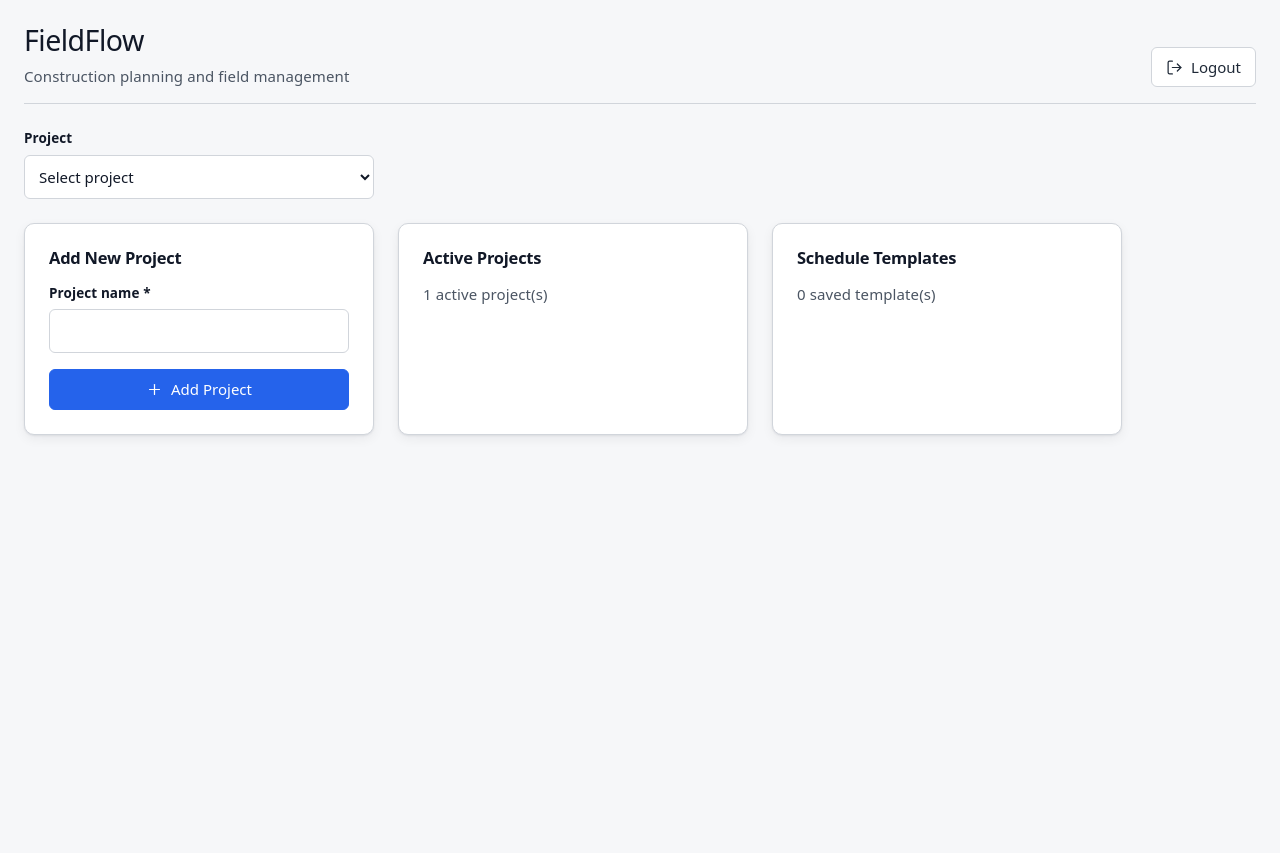
Scenario: App integration (hooks wiring) › loads project documents only from the selected project settings
Step 1. Select "Riverside" in the dropdown labelled "Project" → coordinates (199, 176), box [24,154,374,198]
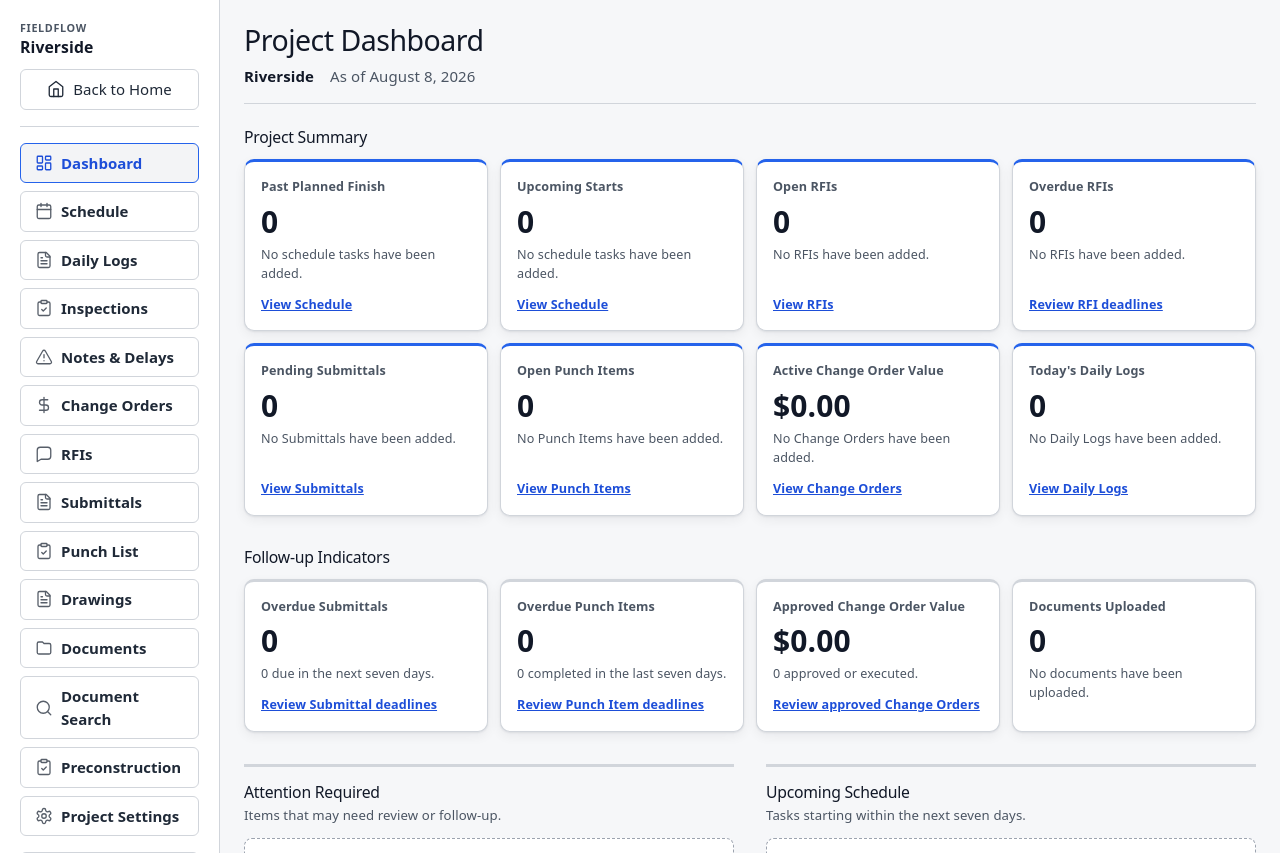
Expected: the heading "Project Dashboard" is shown, [244,24,484,57]
Step 2. Click the button "Project Settings" → coordinates (110, 816), box [20,796,199,836]
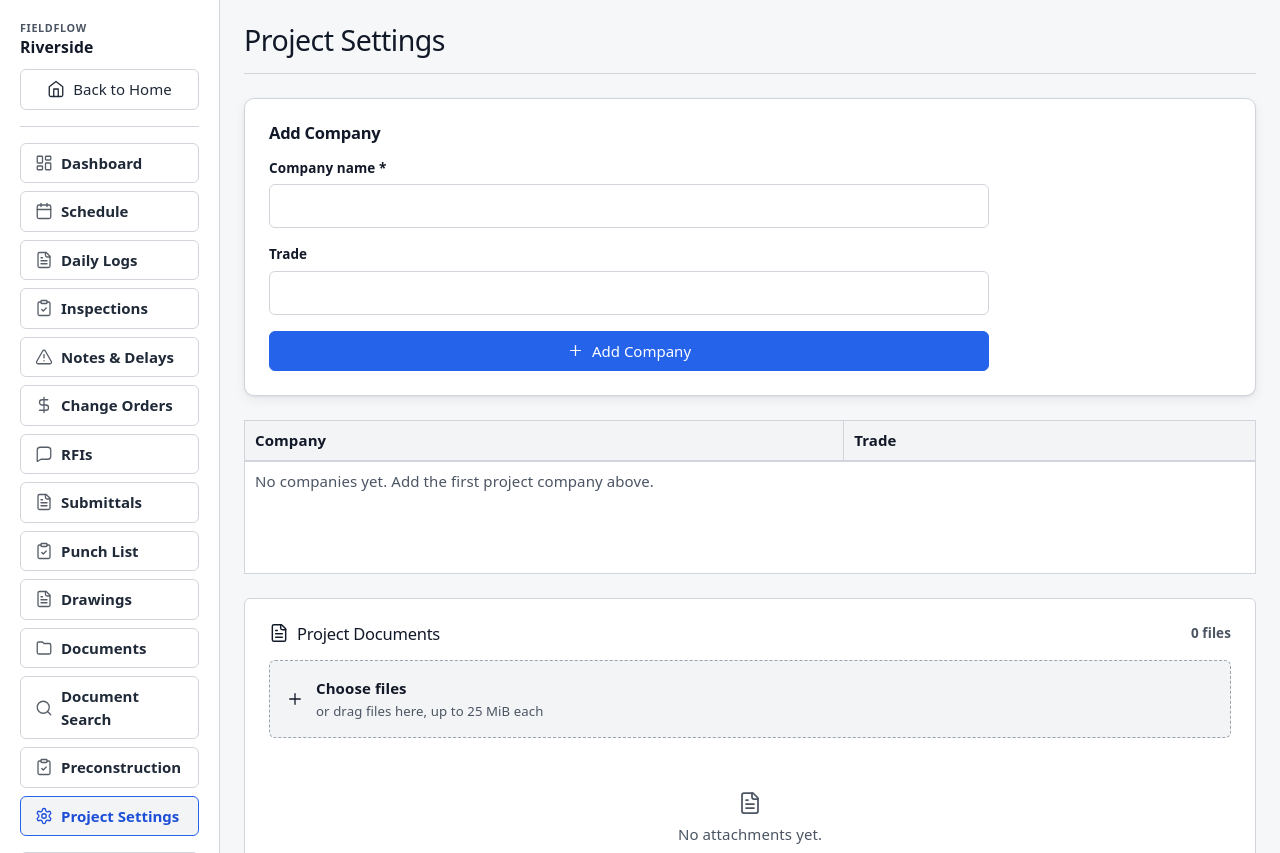
Expected: the heading "Project Documents" is shown, [297,623,440,644]
